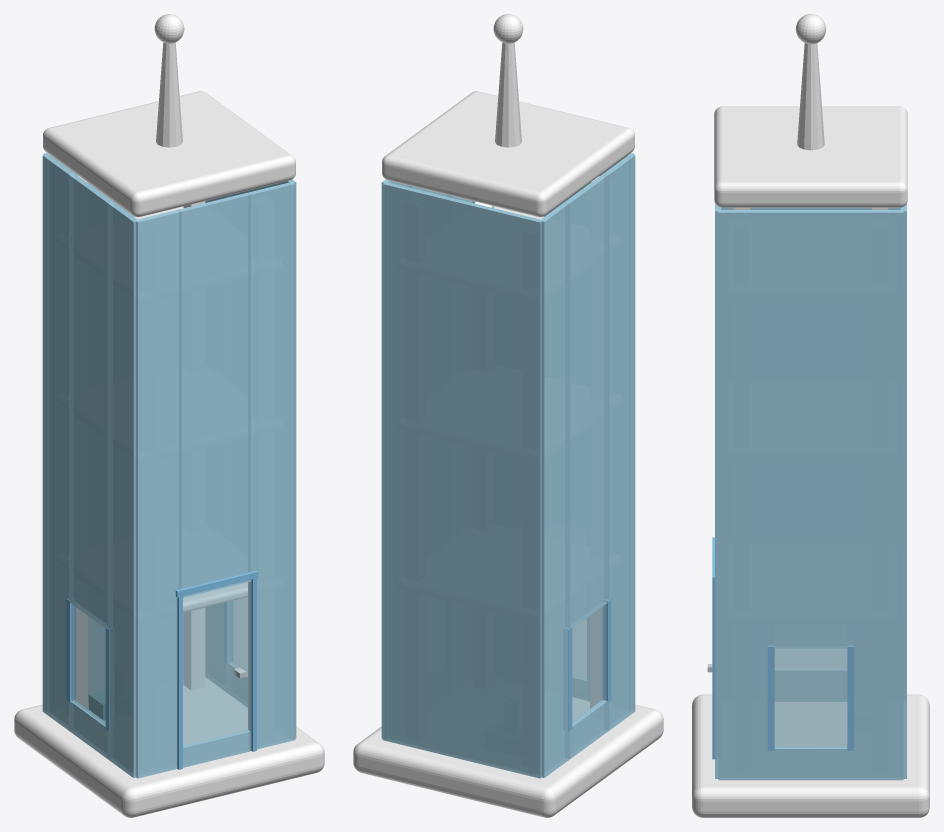
The model's file is aero_tower.glb.
The picture shows the model from 3 angles, left to right: view 1: azimuth 30°, elevation 25°; view 2: azimuth 150°, elevation 25°; view 3: azimuth 270°, elevation 25°; orthographic projection. The views are drawn at different scales.
Visible parts, largest first — view 1: Shell_Front_Header, Shell_Front_Side_-1, Shell_Front_Side_1, Original_roof, Shell_Side_-1_End_1, Shell_Side_-1_Header, Shell_Side_-1_End_-1, Original_solid, Door_Main_Glass, Window_Right_Glass, Walkable_Interior_Floor, Original_accent_3 (+16 smaller); view 2: Shell_Back, Original_roof, Shell_Side_-1_End_-1, Shell_Side_-1_Header, Shell_Side_-1_End_1, Original_solid, Window_Right_Glass, Original_accent_3, Shell_Side_-1_Sill, Shell_Side_1_End_-1, Original_metal_1, WindowFrame_-1_1 (+3 smaller); view 3: Shell_Side_1_Header, Shell_Side_1_End_-1, Shell_Side_1_End_1, Original_roof, Original_solid, Window_Left_Glass, Walkable_Interior_Floor, Shell_Side_1_Sill, Shell_Front_Side_1, Shell_Back, Shell_Side_-1_Sill, Original_accent_3 (+5 smaller).
Boxes of the visible parts, left/top/right/bottom form: Shell_Front_Header: left=179, top=192, right=250, bottom=597; Shell_Front_Side_-1: left=135, top=209, right=181, bottom=778; Shell_Front_Side_1: left=248, top=182, right=295, bottom=750; Original_roof: left=43, top=91, right=295, bottom=217; Shell_Side_-1_End_1: left=107, top=202, right=138, bottom=777; Shell_Side_-1_Header: left=68, top=173, right=112, bottom=628; Shell_Side_-1_End_-1: left=42, top=154, right=73, bottom=730; Original_solid: left=14, top=704, right=324, bottom=817; Door_Main_Glass: left=183, top=582, right=250, bottom=747; Window_Right_Glass: left=71, top=604, right=105, bottom=725; Walkable_Interior_Floor: left=88, top=677, right=247, bottom=744; Original_accent_3: left=156, top=42, right=182, bottom=147; Shell_Back: left=382, top=182, right=542, bottom=778; Original_roof: left=382, top=91, right=634, bottom=217; Shell_Side_-1_End_-1: left=539, top=202, right=570, bottom=777; Shell_Side_-1_Header: left=565, top=173, right=609, bottom=628; Shell_Side_-1_End_1: left=604, top=154, right=635, bottom=730; Original_solid: left=353, top=697, right=663, bottom=817; Window_Right_Glass: left=572, top=604, right=606, bottom=725; Original_accent_3: left=495, top=42, right=521, bottom=147; Shell_Side_-1_Sill: left=570, top=700, right=609, bottom=758; Shell_Side_1_End_-1: left=381, top=179, right=412, bottom=738; Original_metal_1: left=590, top=176, right=601, bottom=708; WindowFrame_-1_1: left=602, top=598, right=611, bottom=702; Shell_Side_1_Header: left=771, top=210, right=850, bottom=648; Shell_Side_1_End_-1: left=851, top=210, right=903, bottom=780; Shell_Side_1_End_1: left=718, top=210, right=770, bottom=780; Original_roof: left=714, top=106, right=907, bottom=207; Original_solid: left=692, top=694, right=929, bottom=817; Window_Left_Glass: left=774, top=648, right=847, bottom=748; Walkable_Interior_Floor: left=775, top=702, right=846, bottom=745; Shell_Side_1_Sill: left=771, top=746, right=850, bottom=780; Shell_Front_Side_1: left=715, top=203, right=721, bottom=778; Shell_Back: left=900, top=203, right=906, bottom=778; Shell_Side_-1_Sill: left=775, top=670, right=846, bottom=701; Original_accent_3: left=797, top=43, right=824, bottom=150.
Bounding box in the file's own units: 1.72 × 6.03 × 1.72.
